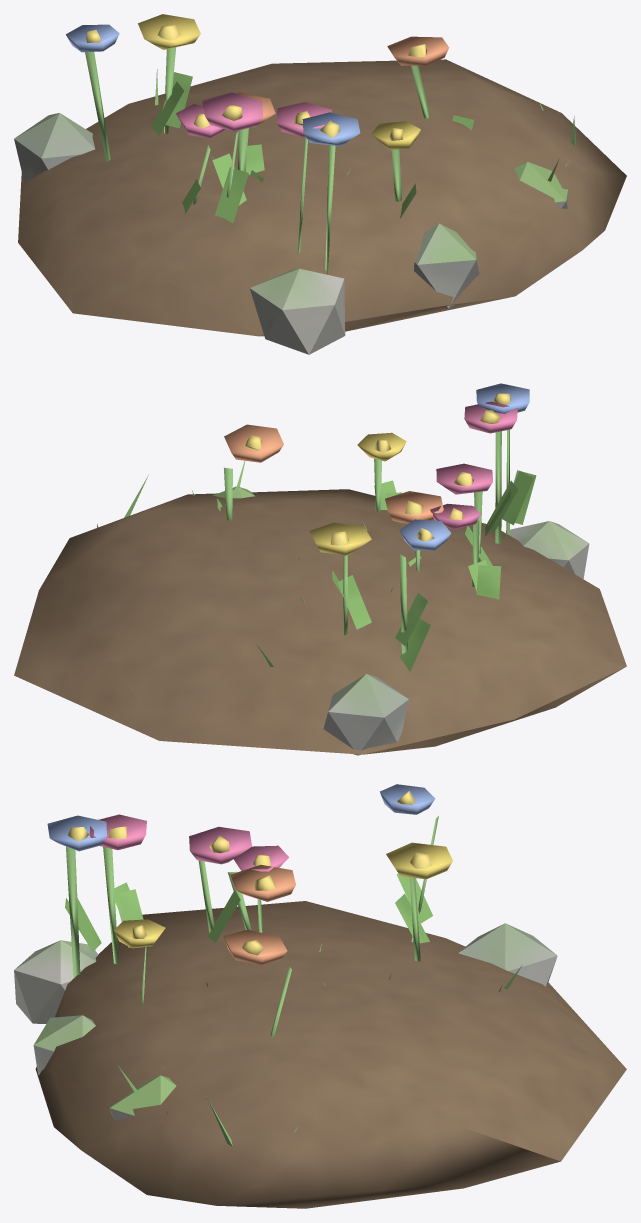
File: flowerbed_lod1.gltf
The picture shows the model from 3 angles, top to bottom: view 1: azimuth 30°, elevation 25°; view 2: azimuth 150°, elevation 25°; view 3: azimuth 270°, elevation 25°; orthographic projection. The views are drawn at different scales.
Parts seen in each view (by area): view 1: flowerbed_LOD1; view 2: flowerbed_LOD1; view 3: flowerbed_LOD1.
Boxes of the visible parts, <box> form: flowerbed_LOD1: <box>14,14,626,354</box>; flowerbed_LOD1: <box>14,383,626,755</box>; flowerbed_LOD1: <box>14,784,626,1208</box>.
Bounding box in the file's own units: 1.08 × 0.3832 × 0.9963.
Materials: 1 (1 with a texture image).
